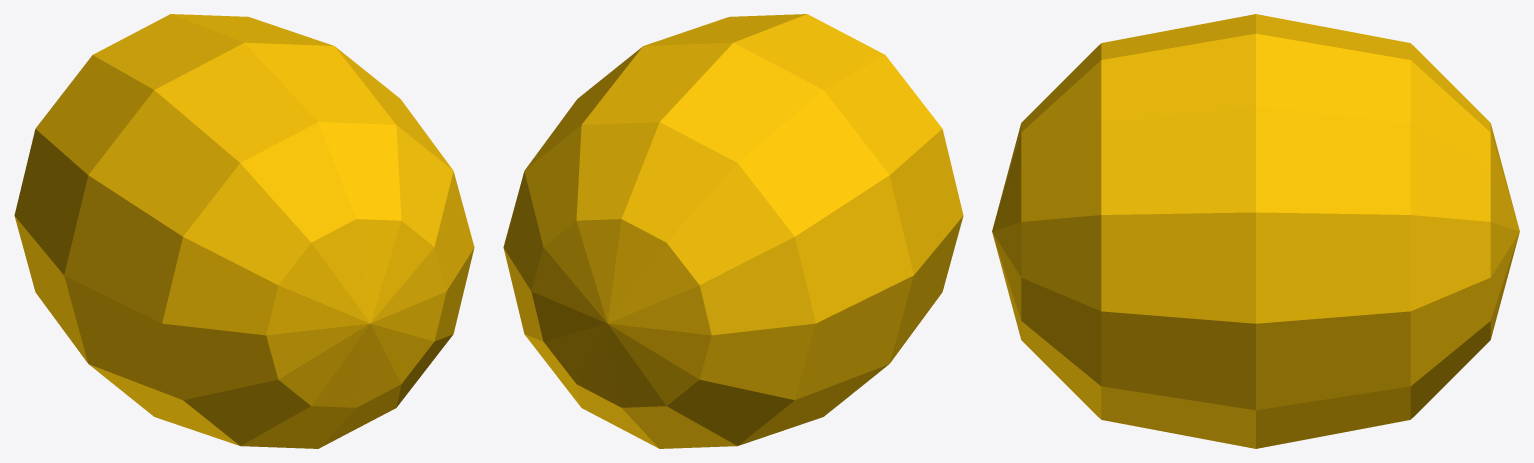
The model's file is Lemon.fbx.
The picture shows the model from 3 angles, left to right: view 1: azimuth 30°, elevation 25°; view 2: azimuth 150°, elevation 25°; view 3: azimuth 270°, elevation 25°; orthographic projection. The views are drawn at different scales.
Parts seen in each view (by area): view 1: Lemon; view 2: Lemon; view 3: Lemon.
Boxes of the visible parts, left/top/right/bottom form: Lemon: left=14, top=14, right=474, bottom=448; Lemon: left=503, top=14, right=963, bottom=448; Lemon: left=992, top=14, right=1519, bottom=448.
Size of the model in its own units: 11.15 by 11.15 by 13.48.
